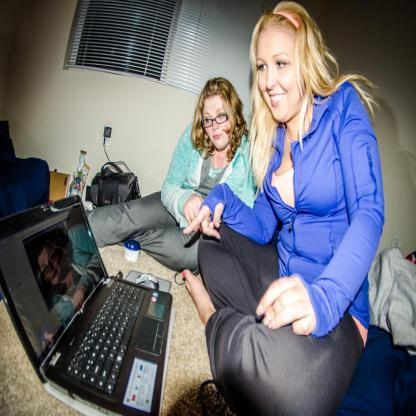board: (12, 201, 184, 413), (125, 240, 141, 263)
